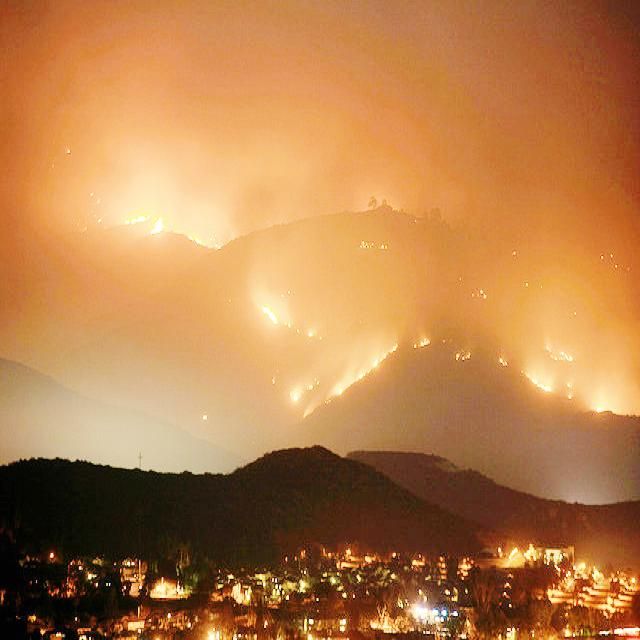api: (115, 205, 220, 257), (332, 335, 401, 400), (522, 366, 558, 399), (284, 378, 308, 409), (259, 296, 278, 330), (592, 400, 620, 423)
